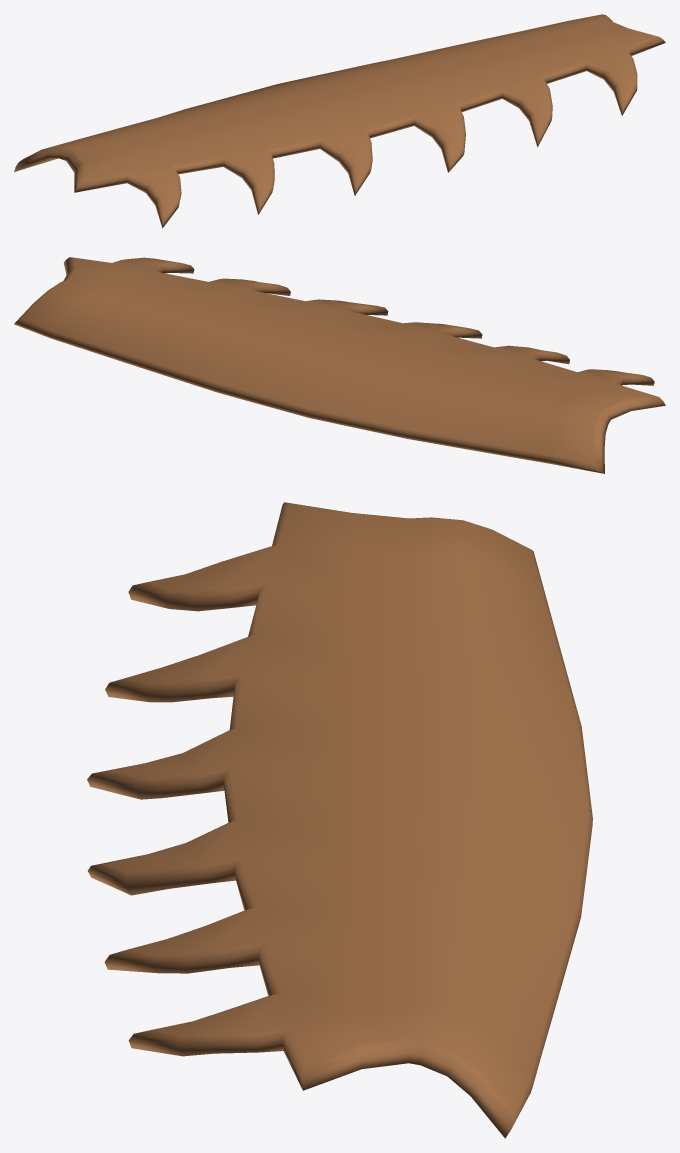
File: Exo Esqueletico.fbx
3 views of the same model, one above another, from view 1: azimuth 30°, elevation 25°; view 2: azimuth 150°, elevation 25°; view 3: azimuth 270°, elevation 25° (orthographic). The views are drawn at different scales.
Visible parts, largest first — view 1: Exo Esqueletico - juantmessina (MAVG); view 2: Exo Esqueletico - juantmessina (MAVG); view 3: Exo Esqueletico - juantmessina (MAVG).
Boxes of the visible parts, x1,y1,x2,y2 form: Exo Esqueletico - juantmessina (MAVG): (14,14,665,228); Exo Esqueletico - juantmessina (MAVG): (14,257,665,473); Exo Esqueletico - juantmessina (MAVG): (87,502,592,1138).
Size of the model in its own units: 83.58 by 4.92 by 30.69.
